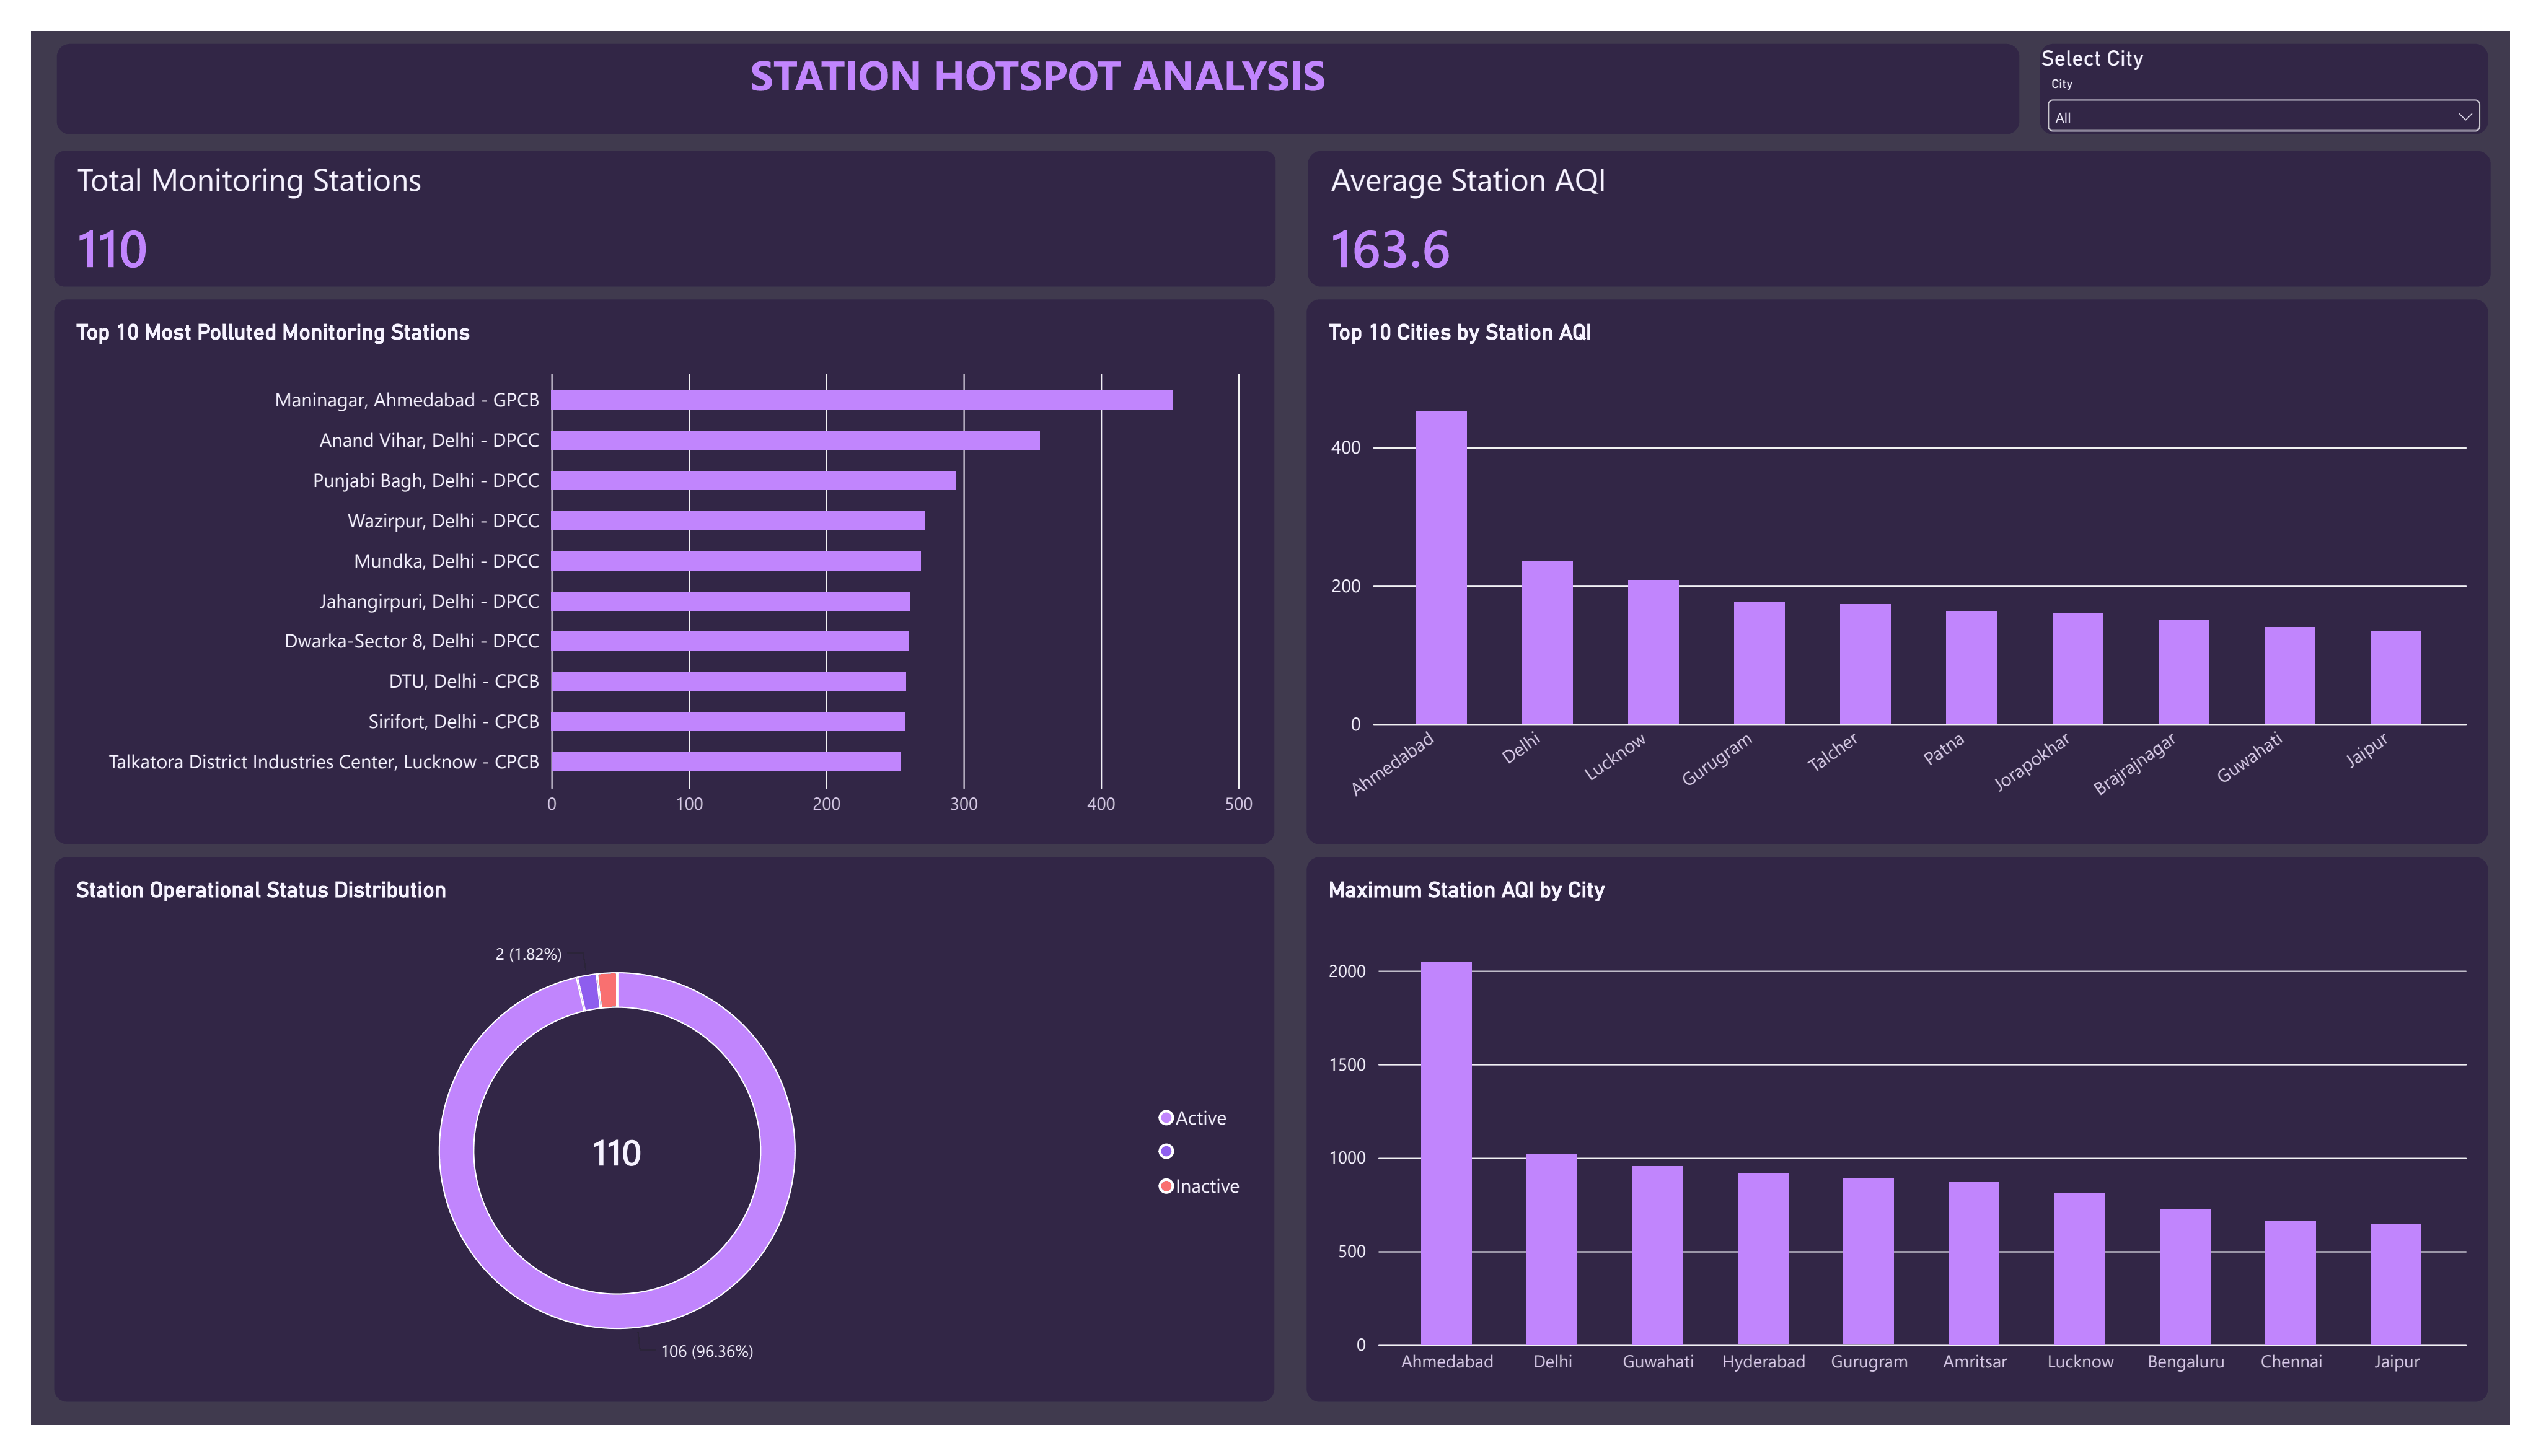

Layout of this report page (visuals, bound fields, positions):
{"tool":"powerbi","page":{"name":"Station Hotspot Analysis","canvas":[1920,1080],"ordinal":3},"visuals":[{"type":"textbox","box":[20,10,1520,70],"z":0},{"type":"cardVisual","fields":{"Data":["DimCity.Total Stations"]},"box":[18.2,92.7,945.5,105.5],"z":1000},{"type":"cardVisual","fields":{"Data":["Avg(gold_station_hotspots.Avg_AQI)"]},"box":[989.1,92.7,915.5,105.5],"z":2000},{"type":"clusteredBarChart","title":"Top 10 Most Polluted Monitoring Stations","fields":{"Category":["gold_station_hotspots.StationName"],"Y":["Avg(gold_station_hotspots.Avg_AQI)"]},"box":[18.3,208.3,945,421.7],"z":3000},{"type":"clusteredColumnChart","title":"Top 10 Cities by Station AQI","fields":{"Category":["gold_station_hotspots.City"],"Y":["Avg(gold_station_hotspots.Avg_AQI)"]},"box":[988.3,208.3,915,421.7],"z":4000},{"type":"donutChart","title":"Station Operational Status Distribution","fields":{"Category":["gold_station_hotspots.Status"],"Y":["Count(gold_station_hotspots.StationId)"]},"box":[18,640,945,422],"z":4001},{"type":"clusteredColumnChart","title":"Maximum Station AQI by City","fields":{"Category":["gold_station_hotspots.City"],"Y":["Max(gold_station_hotspots.Max_AQI)"]},"box":[988,640,915,422],"z":4002},{"type":"slicer","title":"Select City","fields":{"Values":["gold_station_hotspots.City"]},"box":[1555.7,10,347.1,70],"z":4003}]}

Visuals, with their boxes on the page's 1920x1080 design canvas (x1, y1, x2, y2). These are canvas units, not pixel positions in the 2541x1456 screenshot, which may show the page scaled, cropped or inside an application window:
textbox: [20, 10, 1540, 80]
cardVisual - DimCity.Total Stations: [18, 93, 964, 198]
cardVisual - Avg(gold_station_hotspots.Avg_AQI): [989, 93, 1905, 198]
"Top 10 Most Polluted Monitoring Stations" clusteredBarChart: [18, 208, 963, 630]
"Top 10 Cities by Station AQI" clusteredColumnChart: [988, 208, 1903, 630]
"Station Operational Status Distribution" donutChart: [18, 640, 963, 1062]
"Maximum Station AQI by City" clusteredColumnChart: [988, 640, 1903, 1062]
"Select City" slicer: [1556, 10, 1903, 80]
